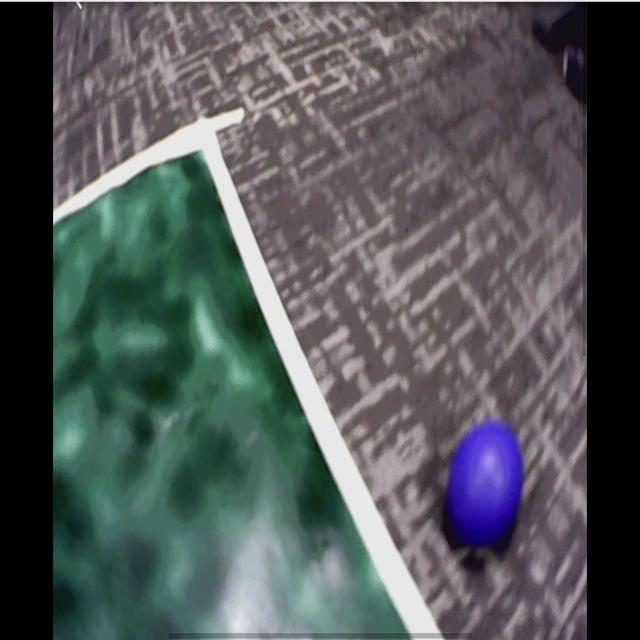ball: (449, 424, 523, 548)
